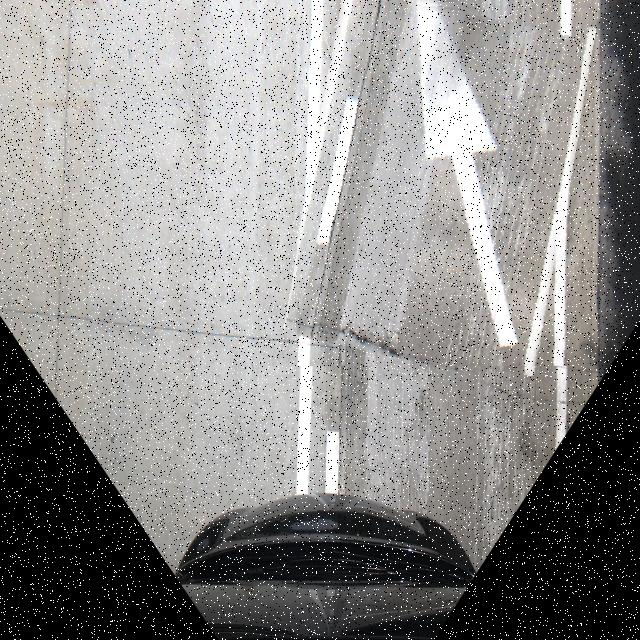chang_lane_left: (297, 0, 581, 366)
